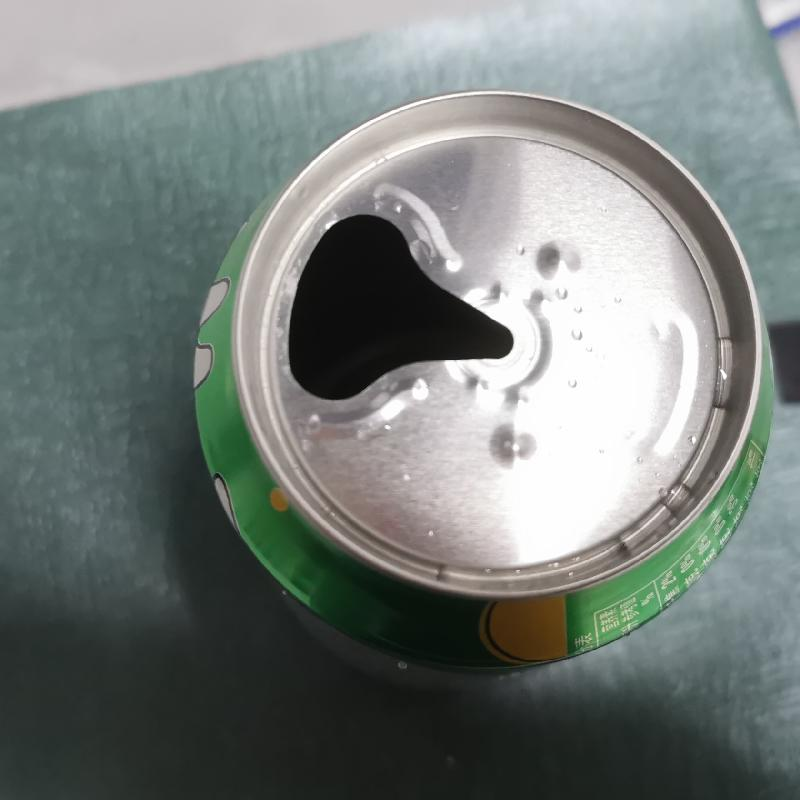cans: (185, 85, 783, 693)
